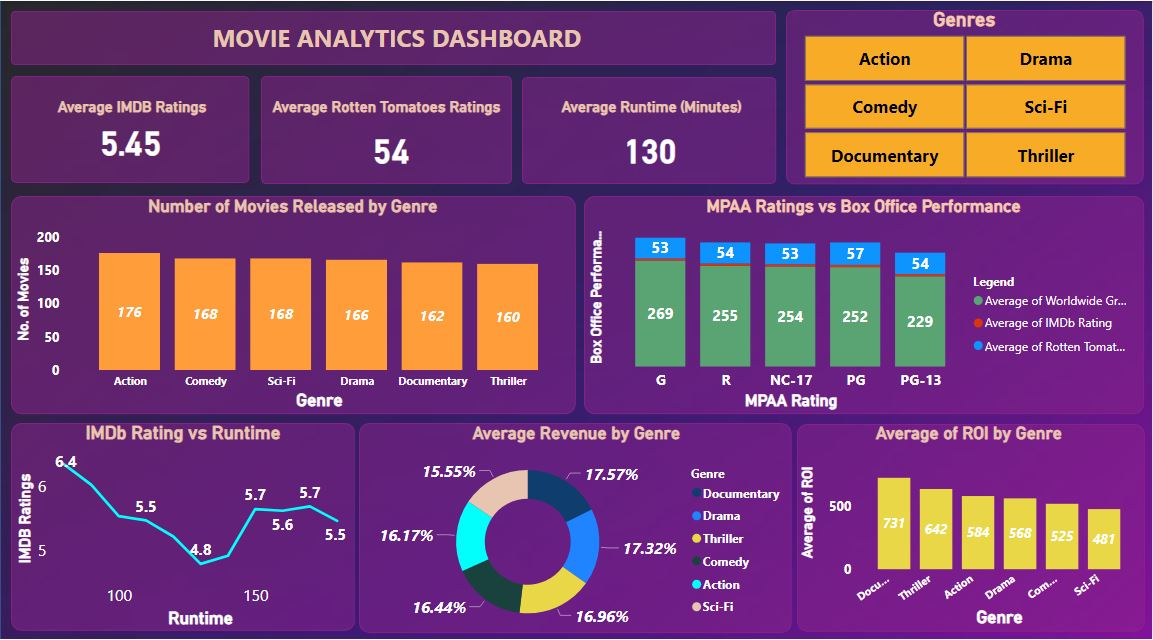

This screenshot's page, from the dashboard's own definition file:
{"tool":"powerbi","page":{"name":"Movie Analytics Dashboard","canvas":[1280,720],"ordinal":1},"visuals":[{"type":"shape","box":[885,479.4,386.5,230.8],"z":0},{"type":"shape","box":[12.5,20,850,60],"z":1000},{"type":"textbox","box":[12.5,18.8,850,61.2],"z":2000},{"type":"shape","box":[290,92.5,278.8,120],"z":3000},{"type":"card","fields":{"Values":["Avg(Movie_Details_Analysis.Rotten Tomatoes Rating (%))"]},"box":[383.8,146.2,101.2,52.5],"z":4000},{"type":"textbox","box":[290,106.2,278.8,47.5],"z":5000},{"type":"shape","box":[12.5,92.5,265,118.8],"z":6000},{"type":"card","fields":{"Values":["Avg(Movie_Details_Analysis.IMDb Rating)"]},"box":[101.2,130,87.5,68.8],"z":7000},{"type":"textbox","box":[31.2,106.2,231.2,47.5],"z":8000},{"type":"shape","box":[580,93.8,282.5,118.8],"z":9000},{"type":"card","fields":{"Values":["Avg(Movie_Details_Analysis.Runtime (Minutes))"]},"box":[667.5,147.5,108.8,51.2],"z":10000},{"type":"textbox","box":[595,106.2,256.2,48.8],"z":11000},{"type":"shape","box":[12.3,478,382.4,230.8],"z":12000},{"type":"lineChart","title":"IMDb Rating vs Runtime","fields":{"Category":["Movie_Details_Analysis.Runtime (Bins)"],"Y":["Avg(Movie_Details_Analysis.IMDb Rating)"]},"box":[12.3,476.7,382.4,233.5],"z":13000},{"type":"shape","box":[398.8,478,480.8,233.5],"z":14000},{"type":"shape","box":[12.5,225,627.5,242.5],"z":15000},{"type":"shape","box":[648.8,225,622.5,242.5],"z":16000},{"type":"columnChart","title":"MPAA Ratings vs Box Office Performance","fields":{"Category":["Movie_Details_Analysis.MPAA Rating"],"Y":["Avg(Movie_Details_Analysis.Worldwide Gross (Millions))","Avg(Movie_Details_Analysis.IMDb Rating)","Avg(Movie_Details_Analysis.Rotten Tomatoes Rating (%))"]},"box":[648.8,225,621.2,242.5],"z":17000},{"type":"shape","box":[873.8,18.8,397.5,193.8],"z":18000},{"type":"slicer","title":"Genres","fields":{"Values":["Movie_Details_Analysis.Genre"]},"box":[873.8,16.2,396.2,195],"z":19000},{"type":"clusteredColumnChart","fields":{"Category":["Movie_Details_Analysis.Genre"],"Y":["Sum(Movie_Details_Analysis.Number of Movies Released)"]},"box":[12.5,225,626.2,242.5],"z":20000},{"type":"clusteredColumnChart","fields":{"Category":["Movie_Details_Analysis.Genre"],"Y":["Avg(Movie_Details_Analysis.ROI)"]},"box":[883.7,478,386.5,230.8],"z":21000},{"type":"donutChart","fields":{"Category":["Movie_Details_Analysis.Genre"],"Y":["AvgRatingsByLanguage.Average Revenue"]},"box":[400.2,478,480.8,241.7],"z":22000}]}

Visuals, with their boxes in screenshot pixels (x1, y1, x2, y2), scaled from the page's 1280x720 canvas onto the 1153x640 screenshot:
shape: 797/426/1145/631
shape: 11/18/777/71
textbox: 11/17/777/71
shape: 261/82/512/189
card - Avg(Movie_Details_Analysis.Rotten Tomatoes Rating (%)): 346/130/437/177
textbox: 261/94/512/137
shape: 11/82/250/188
card - Avg(Movie_Details_Analysis.IMDb Rating): 91/116/170/177
textbox: 28/94/236/137
shape: 522/83/777/189
card - Avg(Movie_Details_Analysis.Runtime (Minutes)): 601/131/699/177
textbox: 536/94/767/138
shape: 11/425/356/630
"IMDb Rating vs Runtime" lineChart: 11/424/356/631
shape: 359/425/792/632
shape: 11/200/576/416
shape: 584/200/1145/416
"MPAA Ratings vs Box Office Performance" columnChart: 584/200/1144/416
shape: 787/17/1145/189
"Genres" slicer: 787/14/1144/188
clusteredColumnChart - Movie_Details_Analysis.Genre x Sum(Movie_Details_Analysis.Number of Movies Released): 11/200/575/416
clusteredColumnChart - Movie_Details_Analysis.Genre x Avg(Movie_Details_Analysis.ROI): 796/425/1144/630
donutChart - Movie_Details_Analysis.Genre x AvgRatingsByLanguage.Average Revenue: 360/425/794/639
